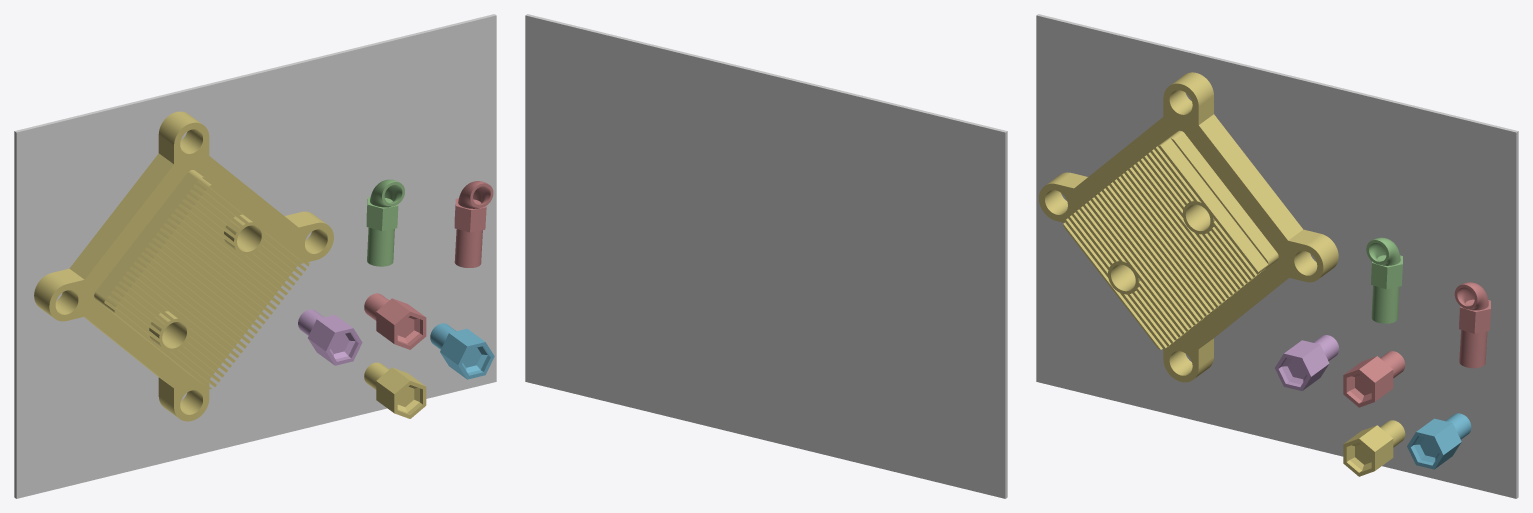
Rendered from pickup_layout.glb.
The picture shows the model from 3 angles, left to right: view 1: azimuth 30°, elevation 25°; view 2: azimuth 150°, elevation 25°; view 3: azimuth 330°, elevation 25°; orthographic projection.
Parts seen in each view (by area): view 1: world, 1.obj, 4.obj, 0.obj, 2.obj, 3.obj, 5.obj, 6.obj; view 2: world; view 3: world, 1.obj, 4.obj, 0.obj, 2.obj, 3.obj, 5.obj, 6.obj.
Part boxes in pixels (x1,y1,x2,y2): world: [14, 14, 496, 498]; 1.obj: [34, 111, 333, 421]; 4.obj: [366, 179, 404, 266]; 0.obj: [454, 181, 493, 267]; 2.obj: [430, 323, 494, 379]; 3.obj: [298, 309, 362, 365]; 5.obj: [364, 293, 426, 349]; 6.obj: [364, 362, 426, 418]; world: [525, 14, 1007, 498]; world: [1036, 14, 1518, 498]; 1.obj: [1039, 72, 1338, 382]; 4.obj: [1366, 237, 1402, 323]; 0.obj: [1454, 282, 1490, 368]; 2.obj: [1407, 413, 1471, 469]; 3.obj: [1275, 335, 1339, 390]; 5.obj: [1343, 351, 1405, 407]; 6.obj: [1343, 420, 1405, 476].
Bounding box in the file's own units: 27.23 × 19.86 × 3.7.
